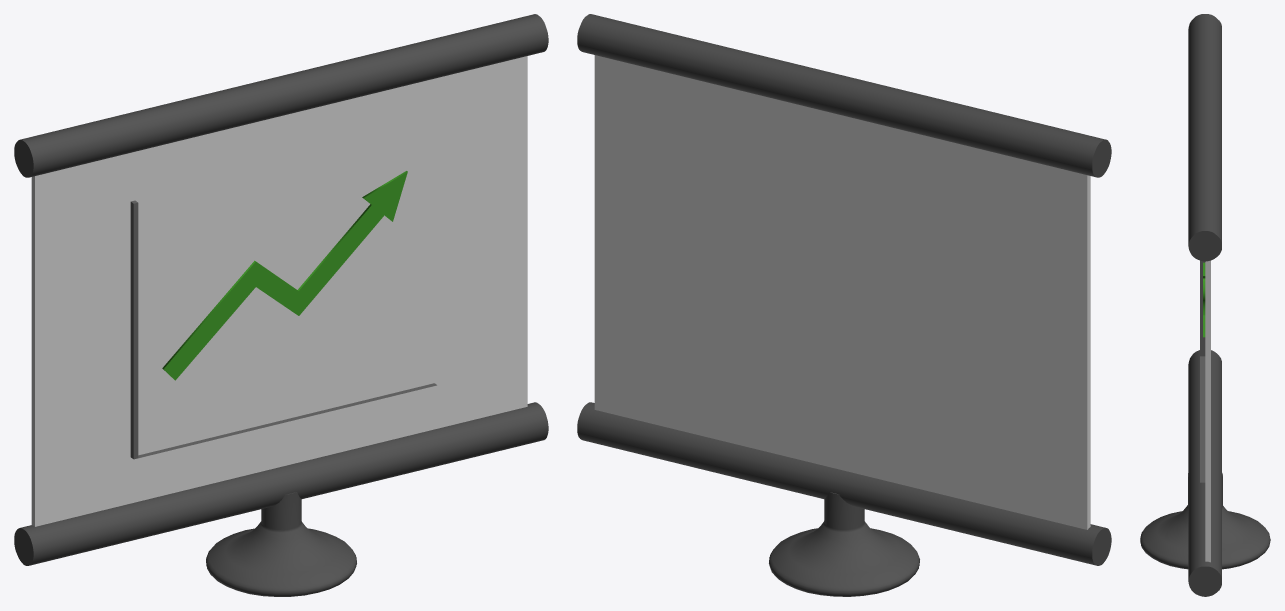
File: Business-transformed.glb
The picture shows the model from 3 angles, left to right: view 1: azimuth 30°, elevation 25°; view 2: azimuth 150°, elevation 25°; view 3: azimuth 270°, elevation 25°; orthographic projection. The views are drawn at different scales.
Parts seen in each view (by area): view 1: Object_8, Object_6, Object_10, Object_4; view 2: Object_8, Object_6; view 3: Object_6, Object_8, Object_4, Object_10.
Part boxes in pixels (x1=…): Object_8: x1=31, y1=56, x2=527, y2=526; Object_6: x1=14, y1=14, x2=548, y2=596; Object_10: x1=162, y1=171, x2=407, y2=380; Object_4: x1=130, y1=200, x2=436, y2=459; Object_8: x1=594, y1=55, x2=1090, y2=529; Object_6: x1=577, y1=14, x2=1111, y2=596; Object_6: x1=1140, y1=14, x2=1270, y2=596; Object_8: x1=1205, y1=260, x2=1210, y2=562; Object_4: x1=1200, y1=260, x2=1205, y2=482; Object_10: x1=1203, y1=262, x2=1205, y2=337.
Bounding box in the file's own units: 1 × 0.9088 × 0.2552.
